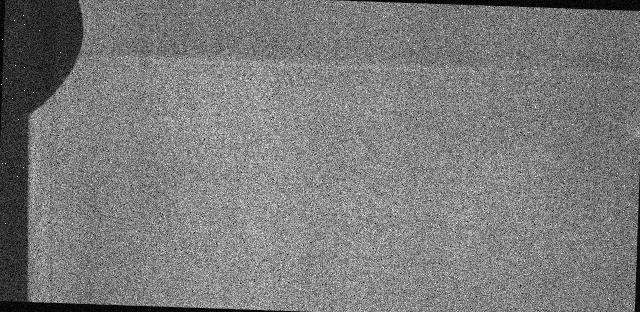welding_line: (63, 45, 640, 89)
